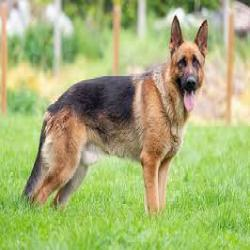dog: (17, 10, 215, 224)
